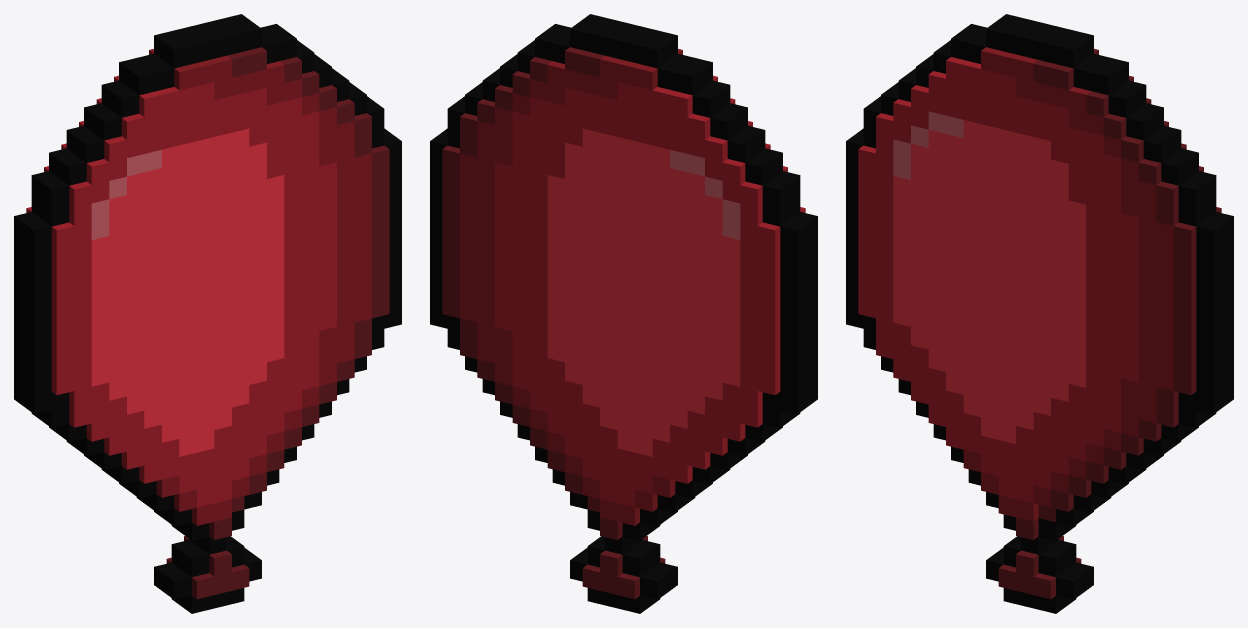
File: balloon.glb
The picture shows the model from 3 angles, left to right: view 1: azimuth 30°, elevation 25°; view 2: azimuth 150°, elevation 25°; view 3: azimuth 330°, elevation 25°; orthographic projection.
Parts seen in each view (by area): view 1: generated(Clone); view 2: generated(Clone); view 3: generated(Clone).
Part boxes in pixels (bbox=[...]): generated(Clone): bbox=[14, 14, 401, 613]; generated(Clone): bbox=[430, 14, 817, 613]; generated(Clone): bbox=[846, 14, 1233, 613].
Size of the model in its own units: 21 by 31 by 3.
